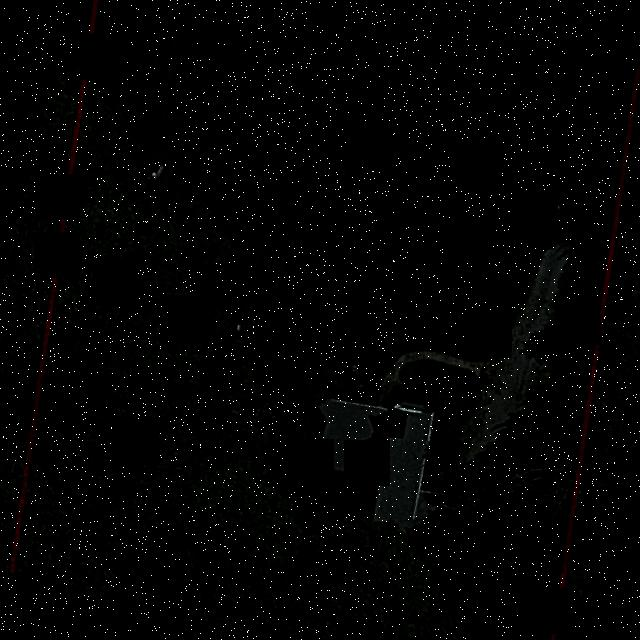Driveway: (377, 245, 566, 460), (557, 385, 590, 597)
House: (288, 384, 481, 554)
